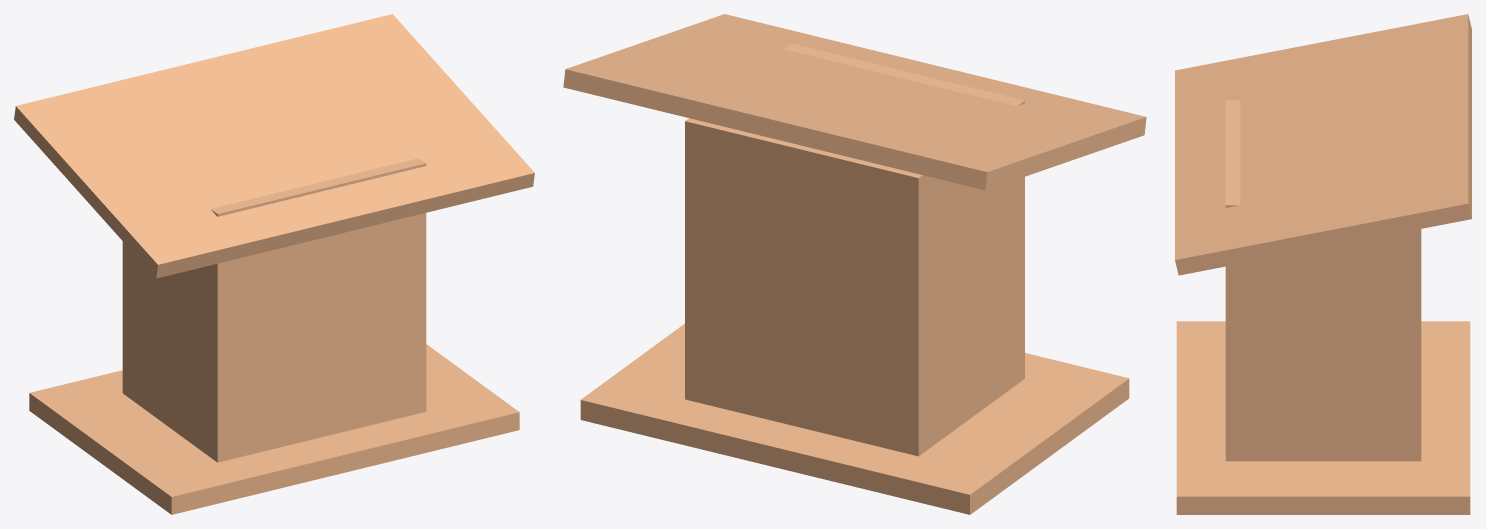
3 views of the same model, side by side, from view 1: azimuth 30°, elevation 25°; view 2: azimuth 150°, elevation 25°; view 3: azimuth 270°, elevation 25° (orthographic). The views are drawn at different scales.
Visible parts, largest first — view 1: Reading top, Body, Foot; view 2: Body, Reading top, Foot; view 3: Reading top, Body, Foot.
Boxes of the visible parts, left/top/right/bottom form: Reading top: left=14, top=14, right=534, bottom=278; Body: left=122, top=158, right=426, bottom=462; Foot: left=29, top=344, right=519, bottom=514; Body: left=685, top=43, right=1024, bottom=456; Reading top: left=563, top=14, right=1146, bottom=190; Foot: left=580, top=323, right=1129, bottom=514; Reading top: left=1175, top=14, right=1471, bottom=275; Body: left=1225, top=100, right=1421, bottom=461; Foot: left=1176, top=321, right=1470, bottom=514.
Bounding box in the file's own units: 0.585 × 0.4584 × 0.3872.
Materials: 1 (1 with a texture image).
